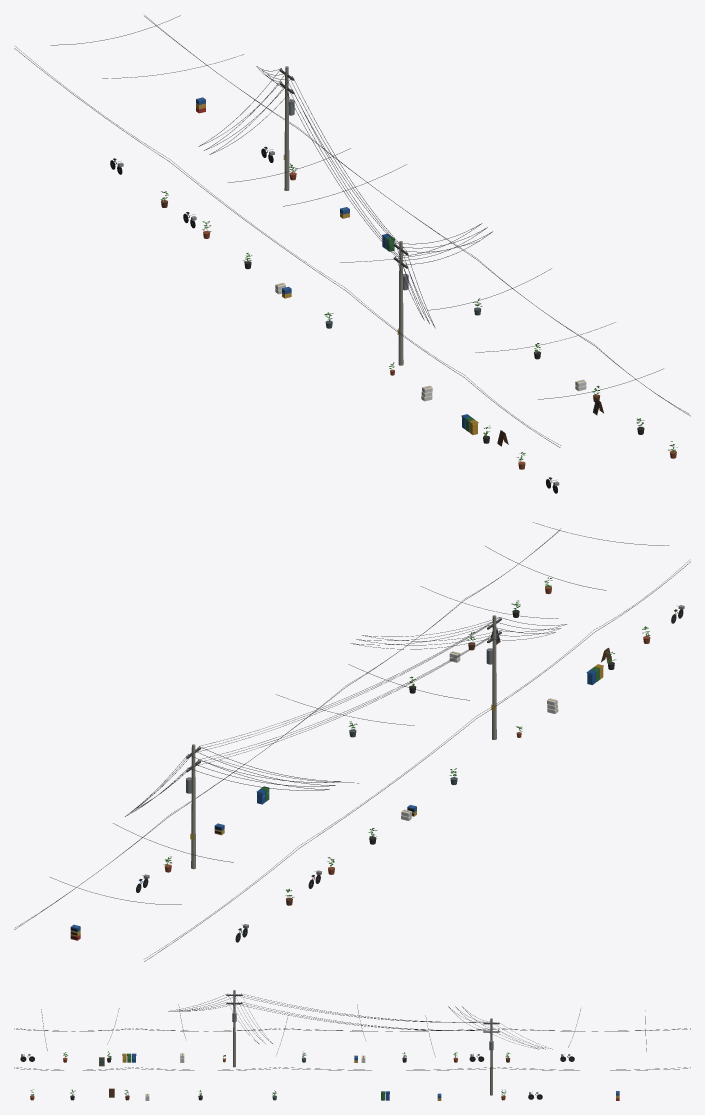
Rendered from lane118_props.glb.
3 views of the same model, one above another, from view 1: azimuth 30°, elevation 25°; view 2: azimuth 150°, elevation 25°; view 3: azimuth 270°, elevation 25° (orthographic). The views are drawn at different scales.
Visible parts, largest first — view 1: l118p_wires, l118p_parts; view 2: l118p_wires, l118p_parts; view 3: l118p_wires, l118p_parts.
Part boxes in pixels (left/top/right/bottom): l118p_wires: left=14, top=15, right=690, bottom=447; l118p_parts: left=110, top=66, right=677, bottom=493; l118p_wires: left=14, top=522, right=690, bottom=961; l118p_parts: left=70, top=577, right=684, bottom=942; l118p_wires: left=14, top=993, right=690, bottom=1070; l118p_parts: left=20, top=990, right=619, bottom=1100.
Bounding box in the file's own units: 10.49 × 9.2 × 74.
3 materials, 1 textured.
